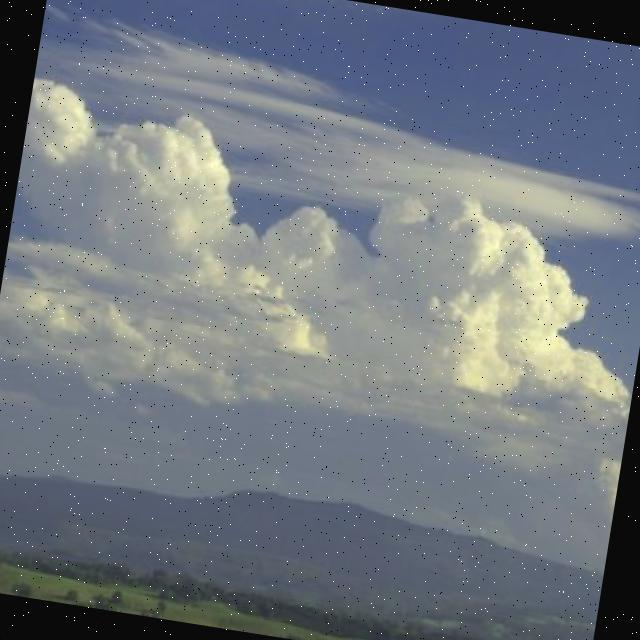Cu: (1, 71, 640, 533)
